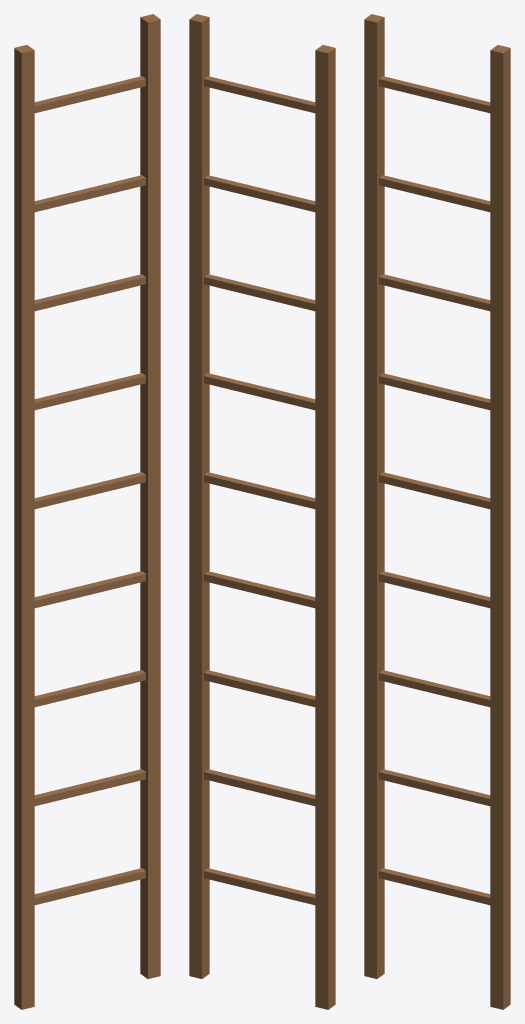
Rendered from Ladder_1 Medium.fbx.
3 renders of one model, left to right at view 1: azimuth 30°, elevation 25°; view 2: azimuth 150°, elevation 25°; view 3: azimuth 330°, elevation 25°, orthographic.
Parts seen in each view (by area): view 1: Ladder1Medium_mesh; view 2: Ladder1Medium_mesh; view 3: Ladder1Medium_mesh.
Part boxes in pixels (box(x1,y1,x2,y2)): Ladder1Medium_mesh: box(14, 14, 160, 1009); Ladder1Medium_mesh: box(189, 14, 335, 1009); Ladder1Medium_mesh: box(364, 14, 510, 1009).
Bounding box in the file's own units: 94.14 × 618 × 8.78.
